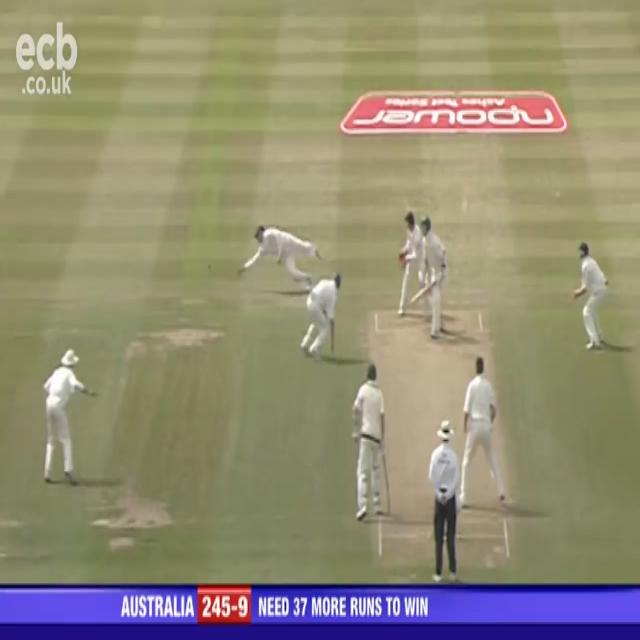ball: (204, 262, 215, 274)
